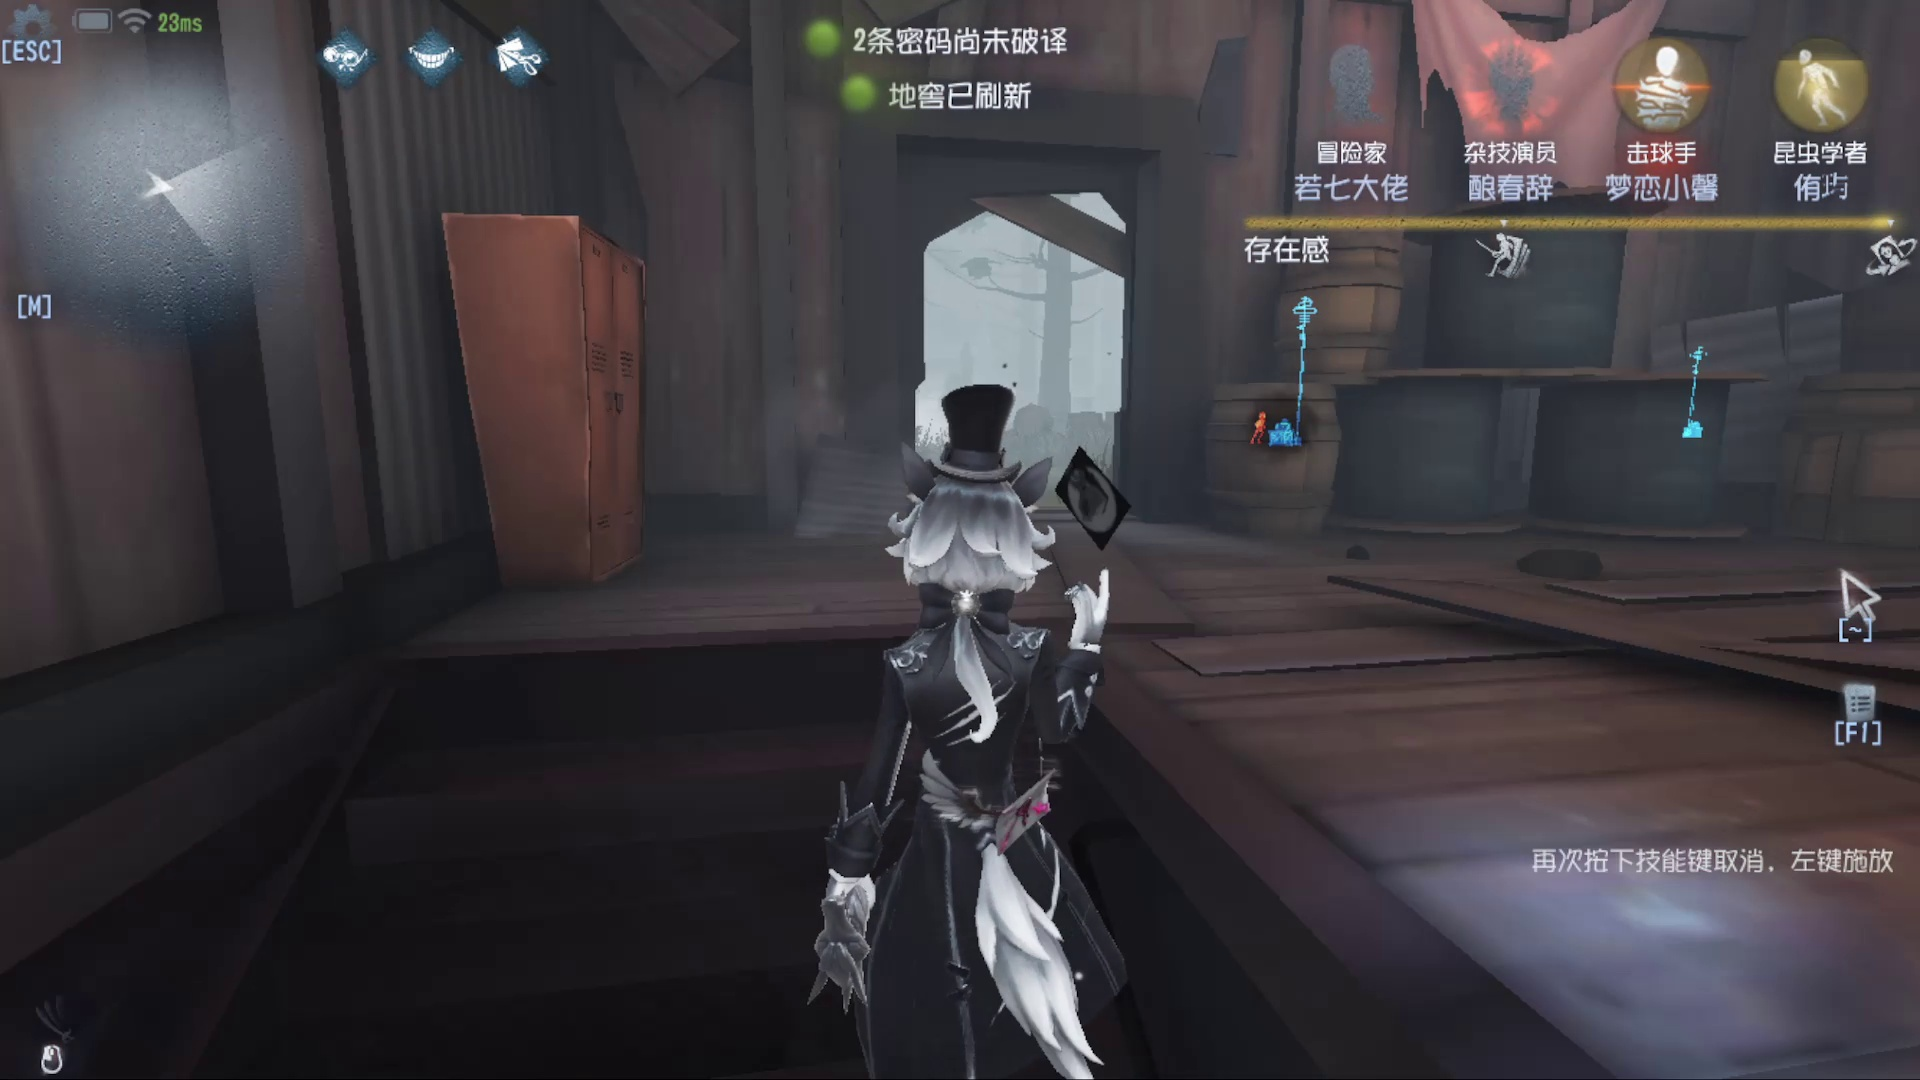密码机: (1261, 287, 1345, 458), (1680, 330, 1745, 489)
